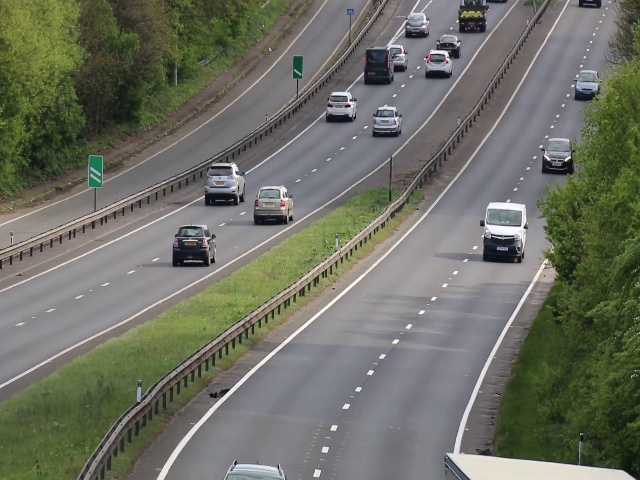car: (483, 202, 525, 263), (173, 224, 216, 267), (206, 160, 246, 204), (254, 187, 295, 224), (362, 48, 396, 84), (543, 137, 572, 174), (374, 105, 402, 137), (457, 1, 486, 30), (326, 92, 357, 119), (425, 50, 452, 78), (575, 69, 600, 99), (404, 10, 430, 38), (437, 33, 460, 53), (393, 43, 406, 69)
